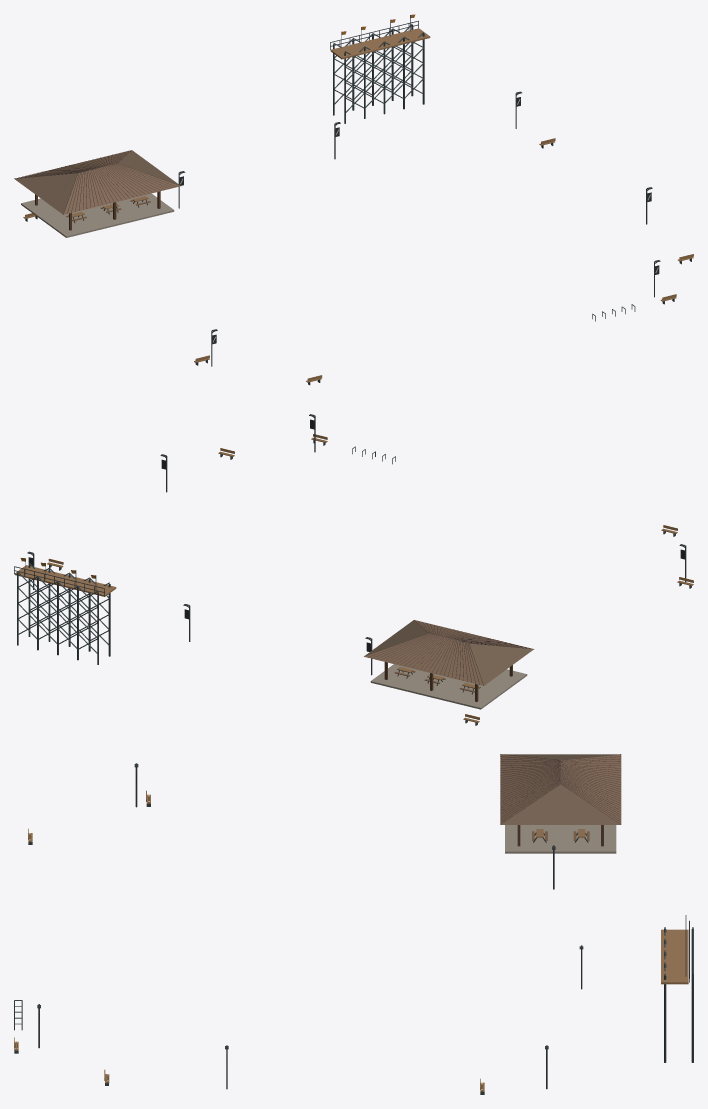
File: pavilion.glb
The picture shows the model from 3 angles, top to bottom: view 1: azimuth 30°, elevation 25°; view 2: azimuth 150°, elevation 25°; view 3: azimuth 270°, elevation 25°; orthographic projection. The views are drawn at different scales.
Visible parts, largest first — view 1: Riverside · pavilion, tower, full loop and street furniture; view 2: Riverside · pavilion, tower, full loop and street furniture; view 3: Riverside · pavilion, tower, full loop and street furniture.
Boxes of the visible parts, <box> form: Riverside · pavilion, tower, full loop and street furniture: <box>14,14,693,385</box>; Riverside · pavilion, tower, full loop and street furniture: <box>14,414,693,725</box>; Riverside · pavilion, tower, full loop and street furniture: <box>14,754,693,1094</box>.
Bounding box in the file's own units: 101 × 16.4 × 97.78.
